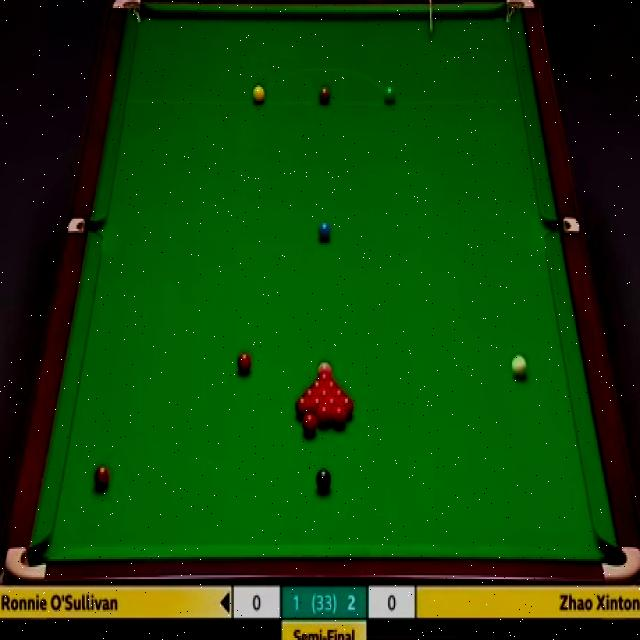black-ball: (315, 468, 332, 493)
blue-ball: (317, 220, 332, 243)
brown-ball: (318, 86, 332, 105)
green-ball: (384, 85, 396, 104)
pink-ball: (318, 360, 332, 373)
red-ball: (94, 463, 109, 490), (236, 352, 251, 376), (316, 405, 331, 428), (302, 413, 316, 436), (332, 406, 346, 429), (295, 398, 311, 418), (340, 397, 354, 418), (311, 398, 324, 414), (302, 387, 320, 398), (324, 380, 340, 390), (308, 380, 326, 388), (331, 389, 348, 397), (325, 396, 338, 406), (317, 374, 332, 382), (319, 389, 332, 398)
white-ball: (511, 355, 527, 378)
yellow-ball: (252, 84, 264, 105)
